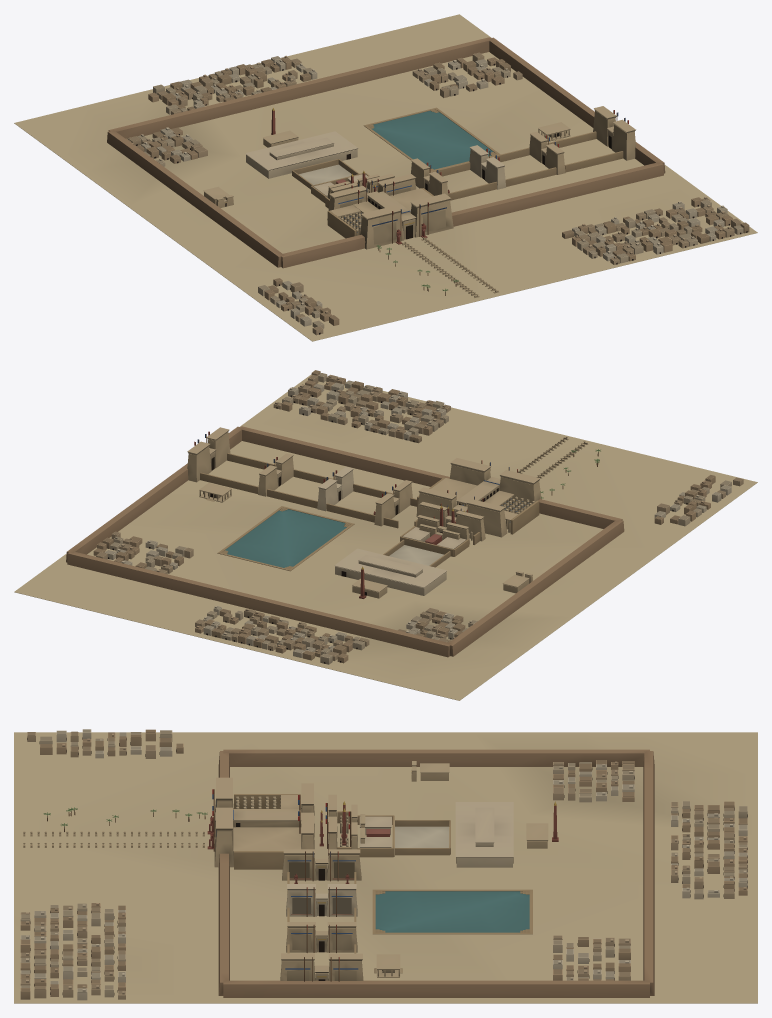
File: karnak.glb
The picture shows the model from 3 angles, top to bottom: view 1: azimuth 30°, elevation 25°; view 2: azimuth 150°, elevation 25°; view 3: azimuth 270°, elevation 25°; orthographic projection. The views are drawn at different scales.
Visible parts, largest first — view 1: p0_lake, p3_town, p1_pylons, p2_hypostyle; view 2: p0_lake, p1_pylons, p3_town, p2_hypostyle; view 3: p0_lake, p3_town, p1_pylons, p2_hypostyle.
Part boxes in pixels (x1=…): p0_lake: x1=14, y1=14, x2=757, y2=341; p3_town: x1=126, y1=52, x2=749, y2=335; p1_pylons: x1=203, y1=106, x2=635, y2=249; p2_hypostyle: x1=327, y1=188, x2=433, y2=238; p0_lake: x1=14, y1=374, x2=757, y2=700; p1_pylons: x1=187, y1=427, x2=541, y2=598; p3_town: x1=93, y1=370, x2=743, y2=664; p2_hypostyle: x1=417, y1=477, x2=539, y2=534; p0_lake: x1=14, y1=732, x2=757, y2=1003; p3_town: x1=20, y1=729, x2=747, y2=1000; p1_pylons: x1=212, y1=761, x2=548, y2=981; p2_hypostyle: x1=233, y1=794, x2=301, y2=869.
Size of the model in its own units: 500 by 35.44 by 580.
